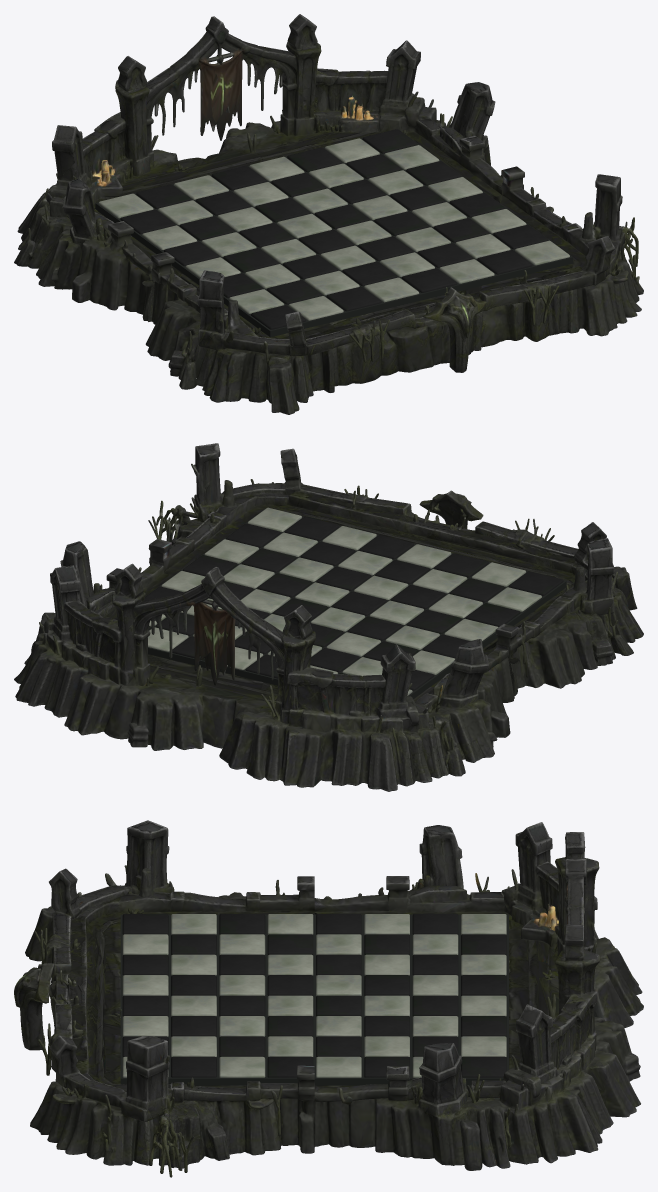
Rendered from swamp.glb.
3 renders of one model, top to bottom at view 1: azimuth 30°, elevation 25°; view 2: azimuth 150°, elevation 25°; view 3: azimuth 270°, elevation 25°, orthographic. The views are drawn at different scales.
Parts seen in each view (by area): view 1: Diorama, TilesLight, TilesDark, Grout; view 2: Diorama, TilesLight, TilesDark, Grout; view 3: Diorama, TilesDark, TilesLight, Grout.
Part boxes in pixels (left/top/right/bottom): Diorama: left=14, top=14, right=643, bottom=414; TilesLight: left=98, top=138, right=569, bottom=320; TilesDark: left=120, top=129, right=548, bottom=329; Grout: left=95, top=129, right=573, bottom=337; Diorama: left=14, top=443, right=643, bottom=791; TilesLight: left=148, top=507, right=541, bottom=695; TilesDark: left=115, top=517, right=563, bottom=690; Grout: left=114, top=508, right=566, bottom=698; Diorama: left=14, top=820, right=643, bottom=1177; TilesDark: left=122, top=914, right=506, bottom=1077; TilesLight: left=122, top=914, right=506, bottom=1077; Grout: left=120, top=914, right=508, bottom=1085.
Bounding box in the file's own units: 1.37 × 0.4791 × 1.44.
Materials: 4 (3 with a texture image).
